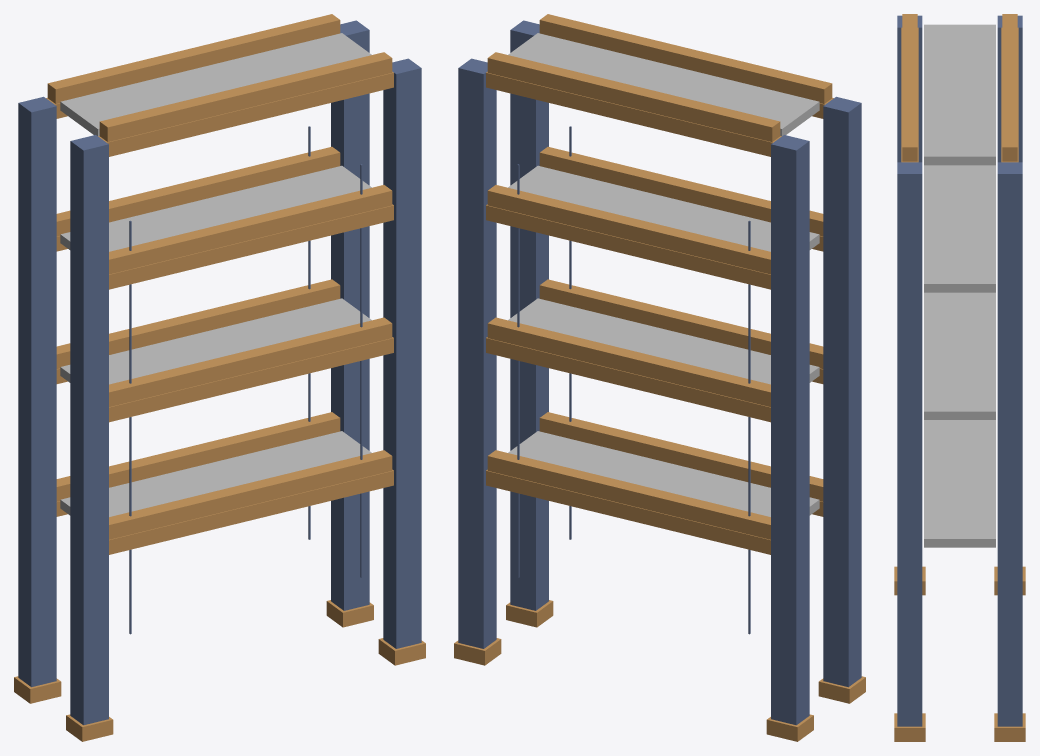
Rendered from shelf-beam-light-4level.glb.
3 renders of one model, left to right at view 1: azimuth 30°, elevation 25°; view 2: azimuth 150°, elevation 25°; view 3: azimuth 270°, elevation 25°, orthographic. The views are drawn at different scales.
Visible parts, largest first — view 1: part_0, part_4, part_2, part_6, part_27, part_12, part_22, part_17, part_23, part_13, part_8, part_18 (+14 smaller); view 2: part_4, part_0, part_6, part_2, part_27, part_12, part_22, part_17, part_25, part_15, part_10, part_20 (+14 smaller); view 3: part_2, part_6, part_27, part_12, part_17, part_22, part_23, part_25, part_0, part_4, part_3, part_7 (+2 smaller).
Boxes of the visible parts, x1,y1,x2,y2 form: part_0: [70, 135, 108, 725]; part_4: [18, 96, 56, 687]; part_2: [383, 58, 421, 648]; part_6: [331, 20, 369, 610]; part_27: [60, 33, 371, 135]; part_12: [60, 431, 371, 516]; part_22: [60, 165, 371, 251]; part_17: [60, 298, 371, 384]; part_23: [99, 52, 392, 141]; part_13: [109, 317, 392, 406]; part_8: [109, 450, 392, 539]; part_18: [109, 185, 392, 274]; part_4: [771, 135, 809, 725]; part_0: [823, 96, 861, 687]; part_6: [458, 58, 496, 648]; part_2: [510, 20, 548, 610]; part_27: [508, 33, 819, 135]; part_12: [508, 431, 819, 516]; part_22: [508, 165, 819, 251]; part_17: [508, 298, 819, 384]; part_25: [487, 52, 780, 141]; part_15: [487, 317, 770, 406]; part_10: [487, 450, 770, 539]; part_20: [487, 185, 770, 274]; part_2: [897, 162, 922, 726]; part_6: [997, 162, 1022, 726]; part_27: [924, 24, 995, 165]; part_12: [924, 420, 995, 547]; part_17: [924, 292, 995, 419]; part_22: [924, 165, 995, 292]; part_23: [902, 14, 917, 161]; part_25: [1002, 14, 1017, 161]; part_0: [897, 15, 922, 162]; part_4: [997, 15, 1022, 162]; part_3: [894, 713, 925, 741]; part_7: [994, 713, 1025, 741].
Size of the model in its own units: 1220 by 2050 by 420.
